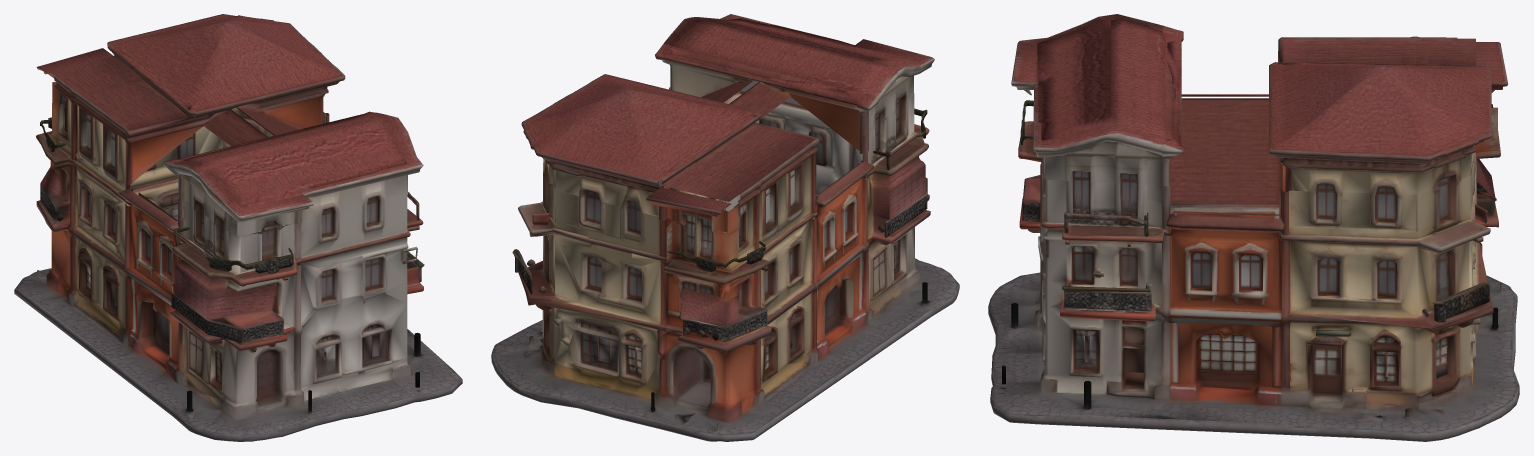
Rendered from stari-korzo-block.glb.
3 views of the same model, side by side, from view 1: azimuth 30°, elevation 25°; view 2: azimuth 150°, elevation 25°; view 3: azimuth 270°, elevation 25° (orthographic). The views are drawn at different scales.
Visible parts, largest first — view 1: tripo_node_01a792fc-fe9b-4769-92a5-404b2494b068; view 2: tripo_node_01a792fc-fe9b-4769-92a5-404b2494b068; view 3: tripo_node_01a792fc-fe9b-4769-92a5-404b2494b068.
Part boxes in pixels (x1,y1,x2,y2): tripo_node_01a792fc-fe9b-4769-92a5-404b2494b068: (14,14,462,441); tripo_node_01a792fc-fe9b-4769-92a5-404b2494b068: (491,14,959,441); tripo_node_01a792fc-fe9b-4769-92a5-404b2494b068: (988,14,1519,441).
Size of the model in its own units: 13.6 by 12 by 18.53.
Materials: 1 (1 with a texture image).
